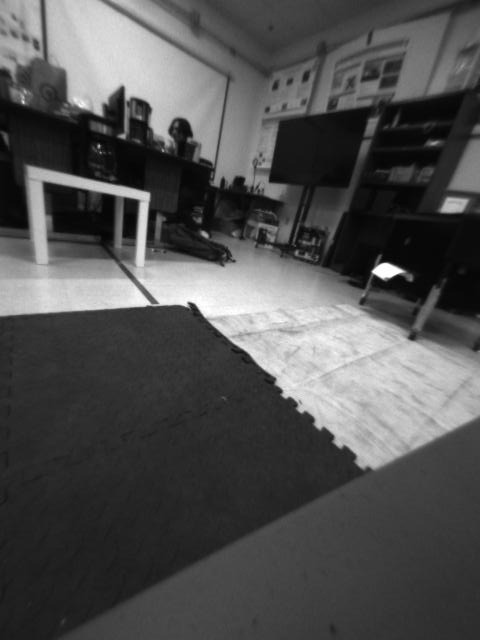coffee_pot: (79, 114, 120, 182)
